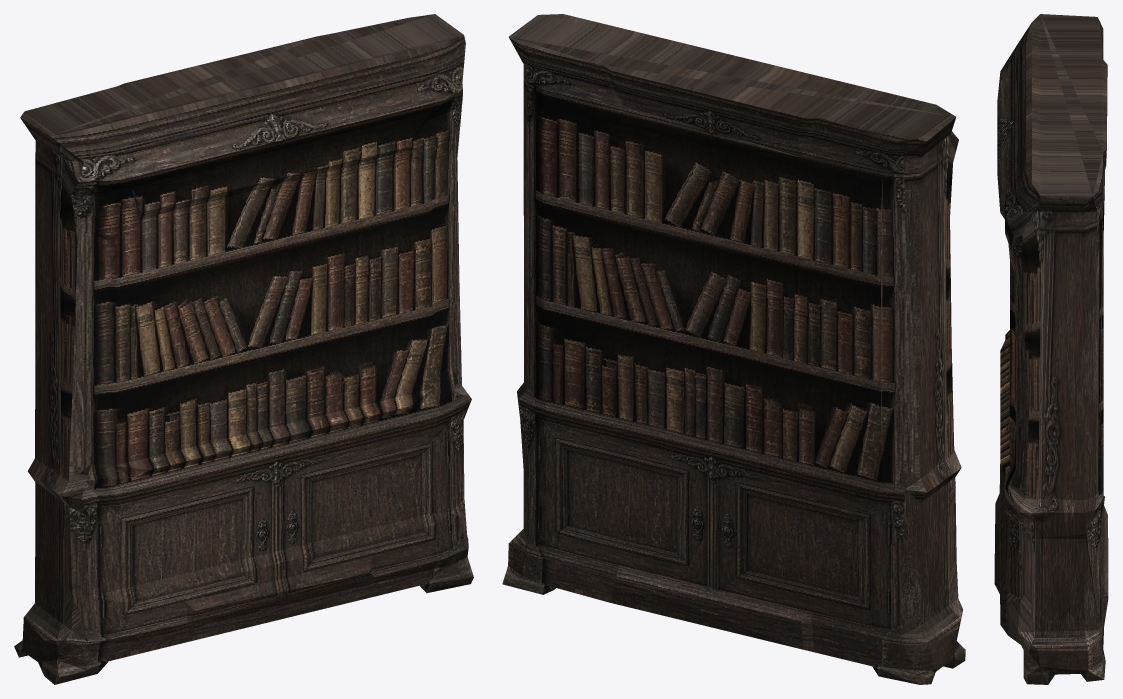
File: shelf_med.glb
3 views of the same model, side by side, from view 1: azimuth 30°, elevation 25°; view 2: azimuth 150°, elevation 25°; view 3: azimuth 270°, elevation 25° (orthographic). The views are drawn at different scales.
Visible parts, largest first — view 1: shelf_med; view 2: shelf_med; view 3: shelf_med.
Boxes of the visible parts, <box> form: shelf_med: <box>14,14,473,684</box>; shelf_med: <box>502,14,965,684</box>; shelf_med: <box>994,14,1108,684</box>.
Size of the model in its own units: 1.78 by 2.2 by 0.4629.
1 material, 1 textured.
